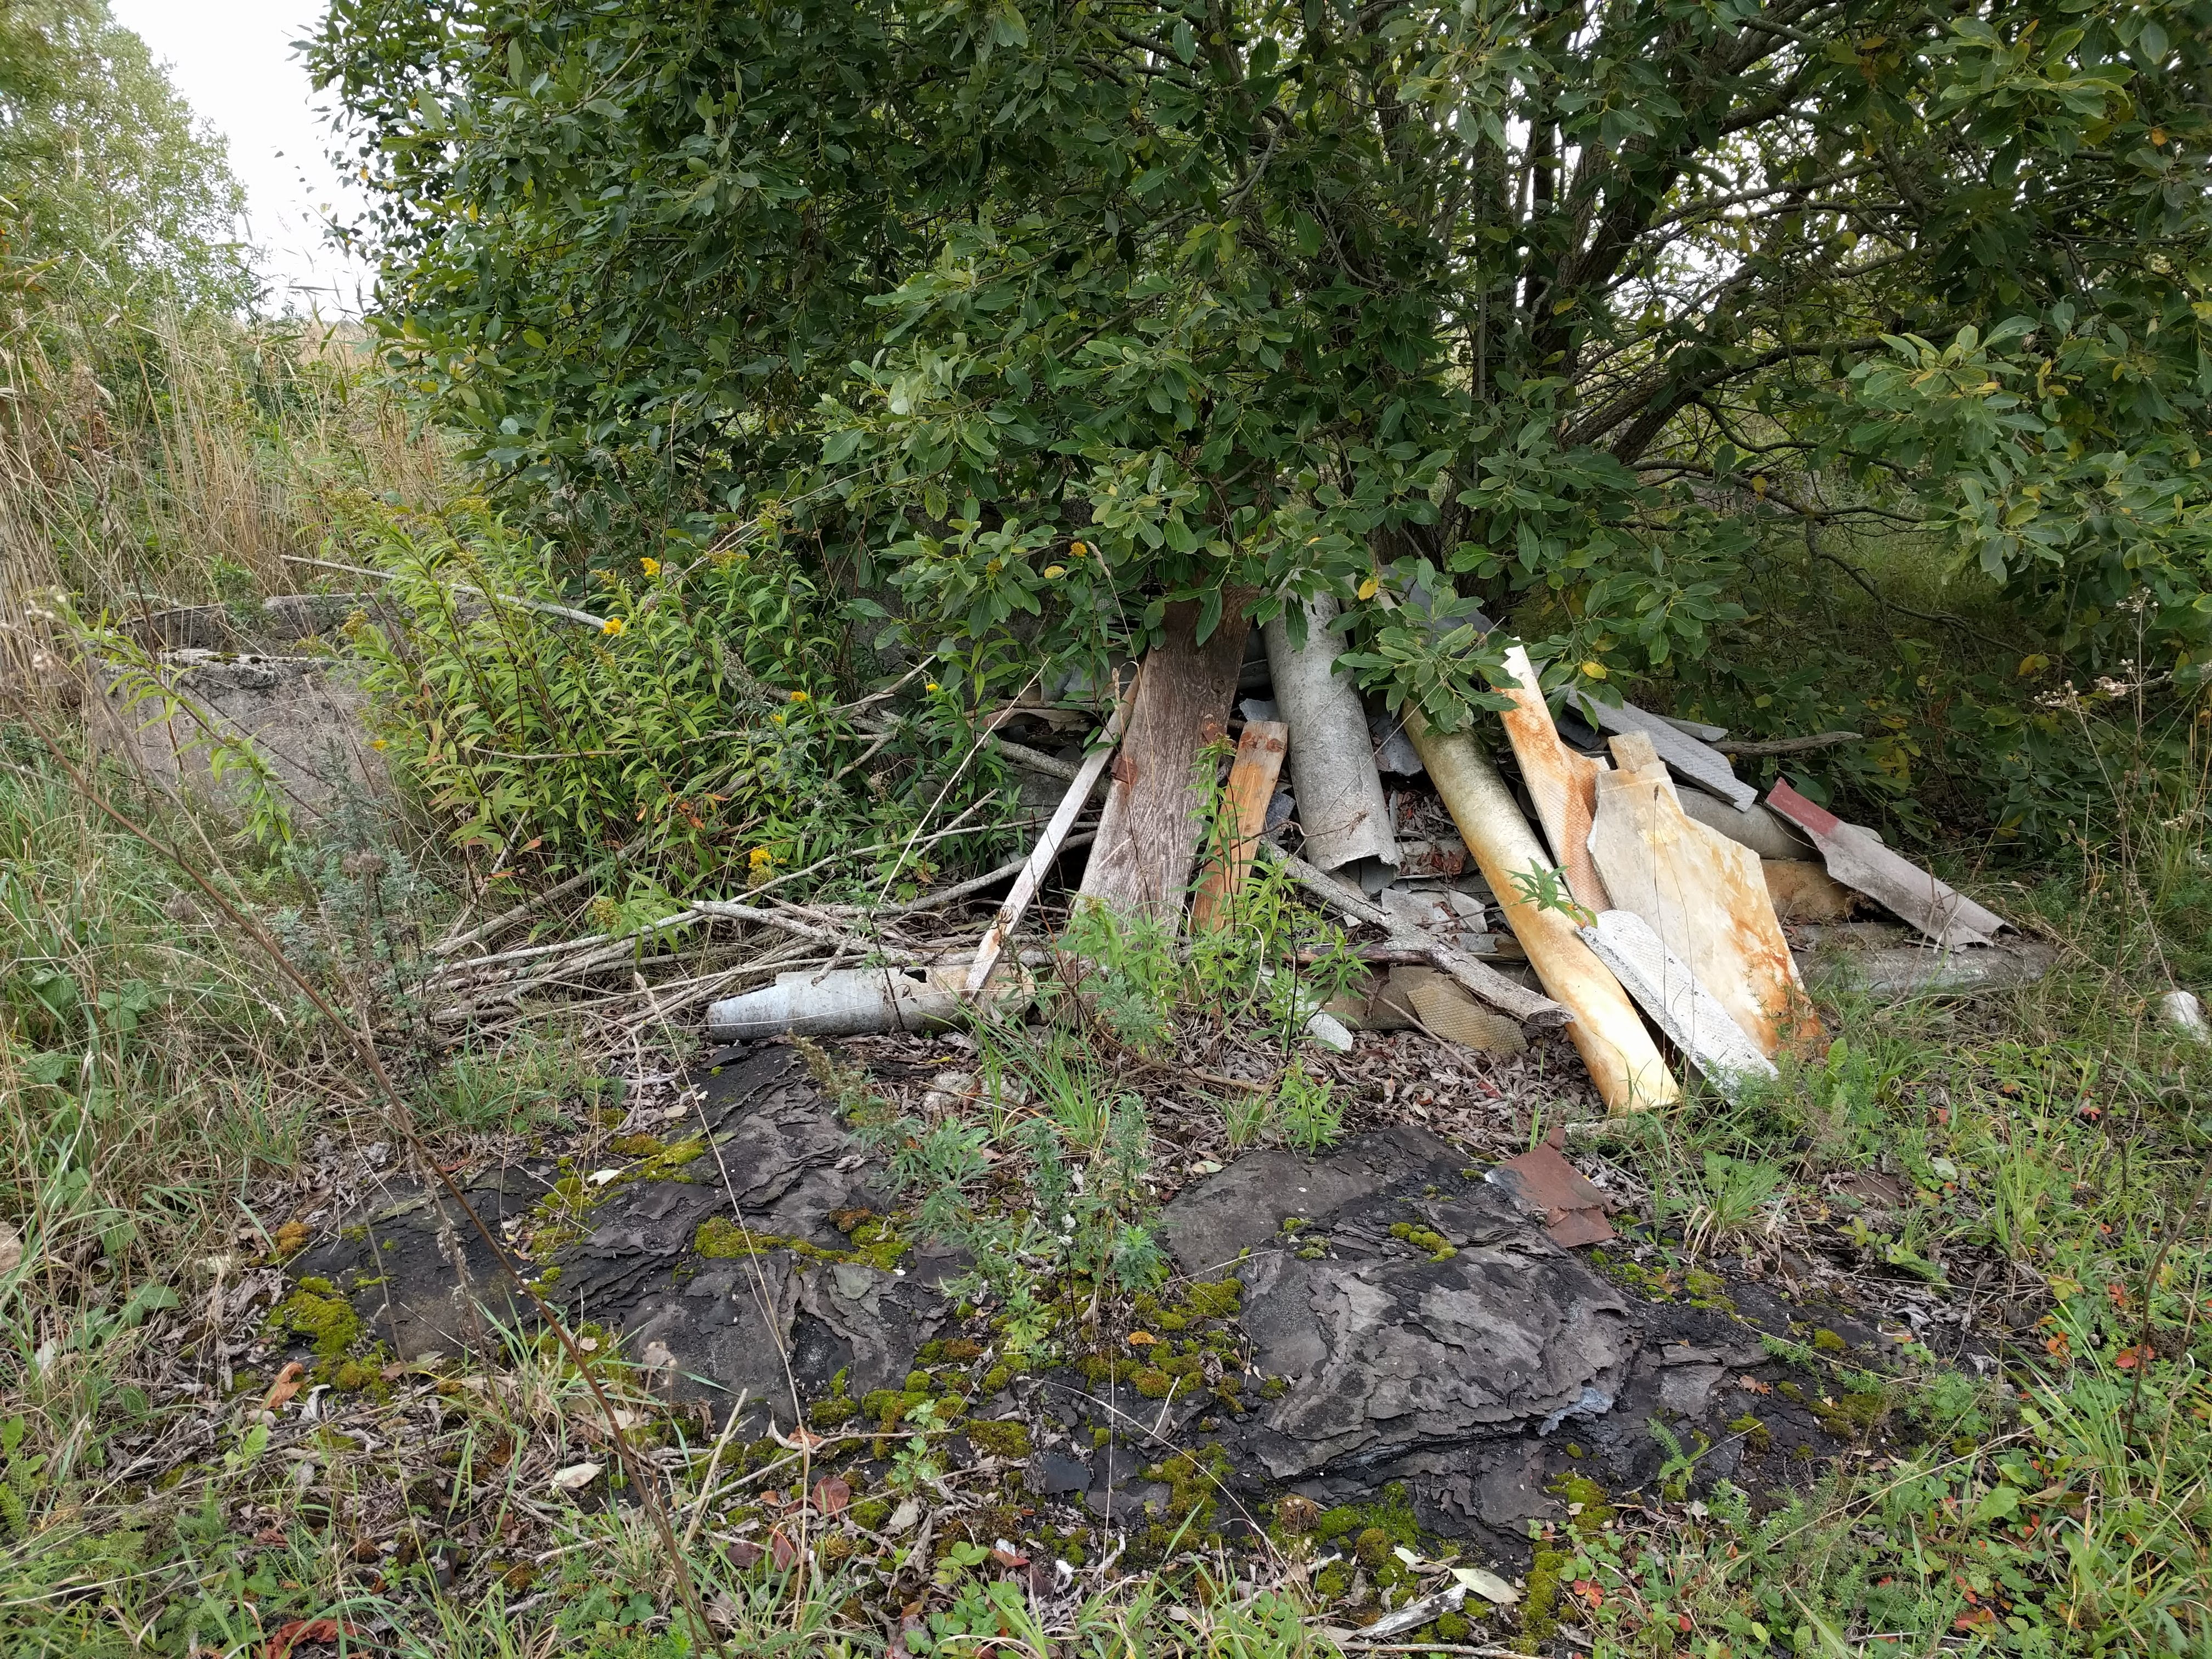trash: (550, 542, 1818, 1204)
